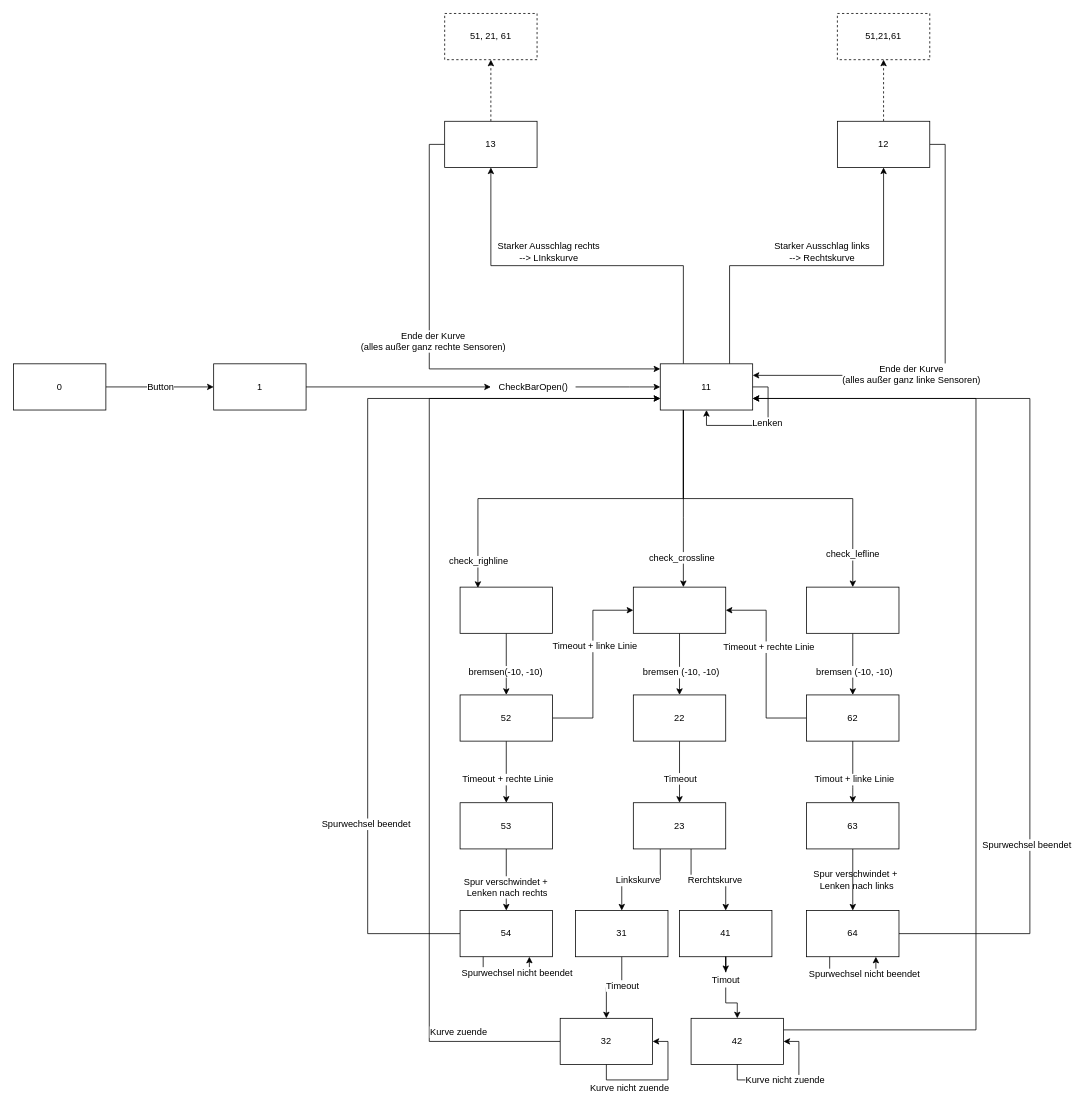
This 1084x1106 diagram has some shape labels left out. The centre of each missing label's shape, as x and y in pixels:
21 (center Linie): the point at 679,609
51 (rechte Linie): the point at 505,609
61 (linke Linie): the point at 852,609
